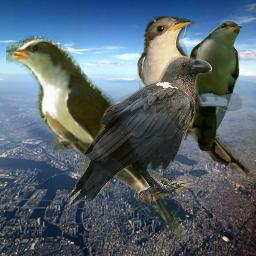Crow: (64, 56, 212, 207)
Cuckoo: (6, 34, 187, 242), (137, 16, 252, 181), (186, 20, 242, 151)
